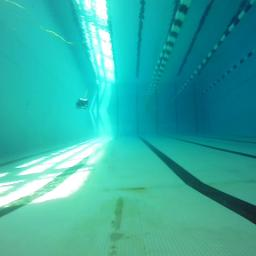front: (76, 97, 88, 110)
